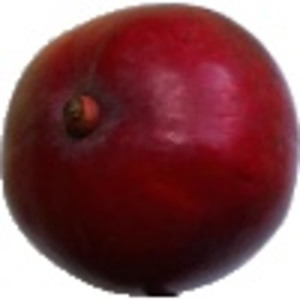manga: (1, 3, 300, 298)
